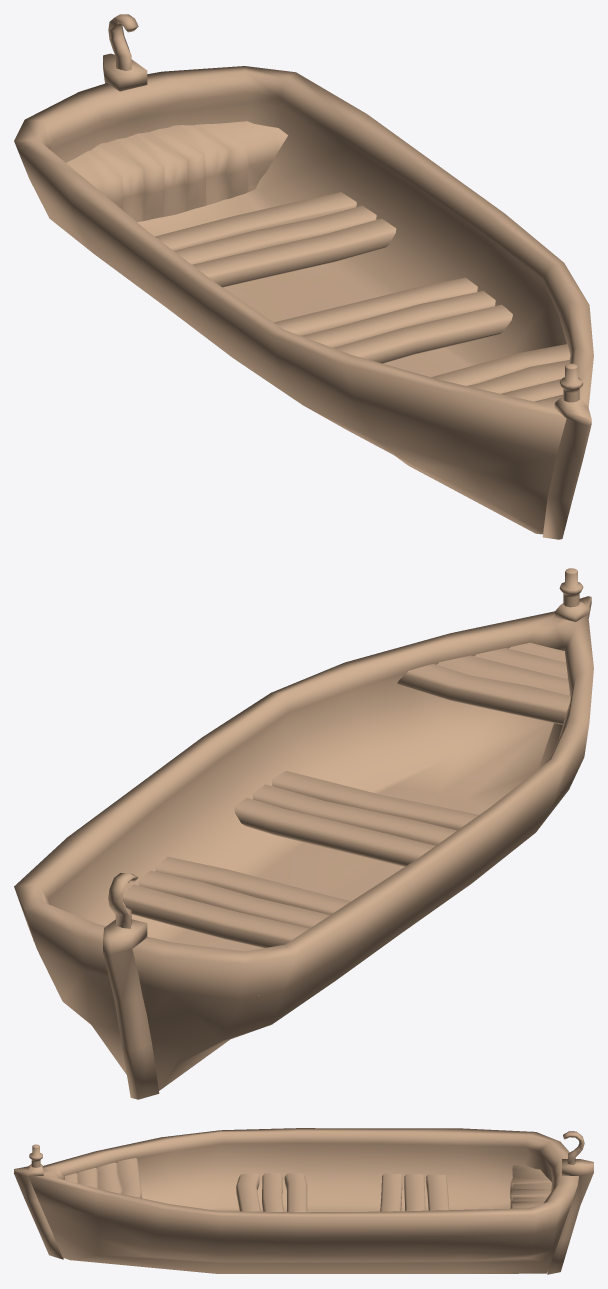
Rendered from SM_Stylized_Boat.glb.
3 views of the same model, one above another, from view 1: azimuth 30°, elevation 25°; view 2: azimuth 150°, elevation 25°; view 3: azimuth 270°, elevation 25° (orthographic). The views are drawn at different scales.
Visible parts, largest first — view 1: SM_Stylized_Boat; view 2: SM_Stylized_Boat; view 3: SM_Stylized_Boat.
Boxes of the visible parts, bbox=[...] form: SM_Stylized_Boat: bbox=[14, 14, 593, 539]; SM_Stylized_Boat: bbox=[14, 568, 593, 1099]; SM_Stylized_Boat: bbox=[14, 1128, 593, 1274].
Size of the model in its own units: 1.51 by 1.1 by 4.17.
